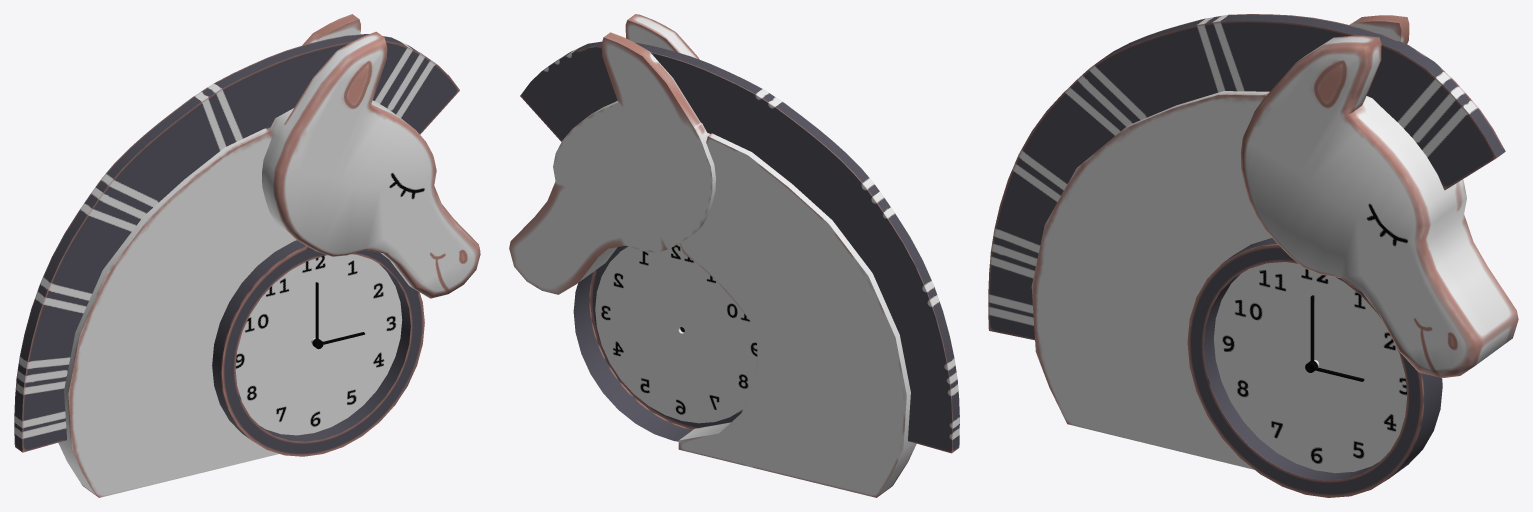
File: Zebraclock.dae
3 renders of one model, left to right at view 1: azimuth 30°, elevation 25°; view 2: azimuth 150°, elevation 25°; view 3: azimuth 330°, elevation 25°, orthographic. The views are drawn at different scales.
Parts seen in each view (by area): view 1: zebraclock1; view 2: zebraclock1; view 3: zebraclock1.
Part boxes in pixels (left/top/right/bottom): zebraclock1: left=14, top=14, right=480, bottom=497; zebraclock1: left=509, top=14, right=959, bottom=497; zebraclock1: left=988, top=14, right=1518, bottom=497.
Size of the model in its own units: 9.7 by 8.49 by 1.37.
Materials: 1 (1 with a texture image).
